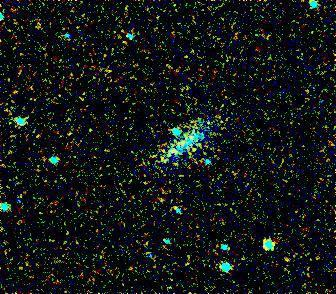star: (272, 245, 302, 275)
